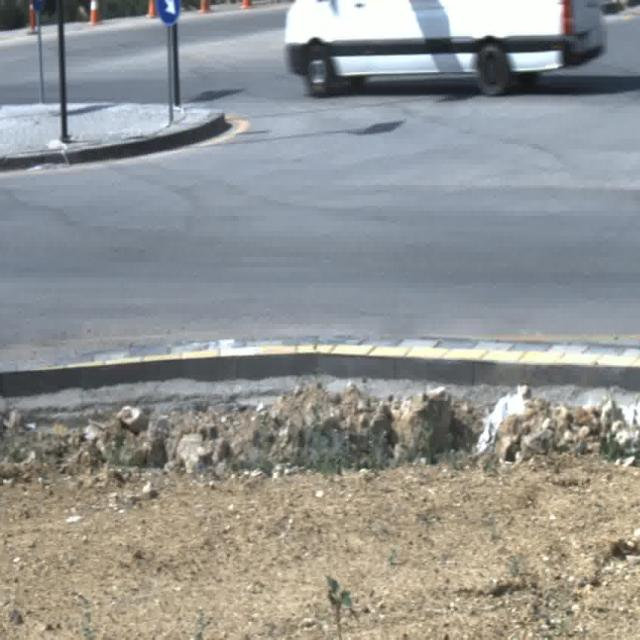Car: (286, 0, 604, 101)
